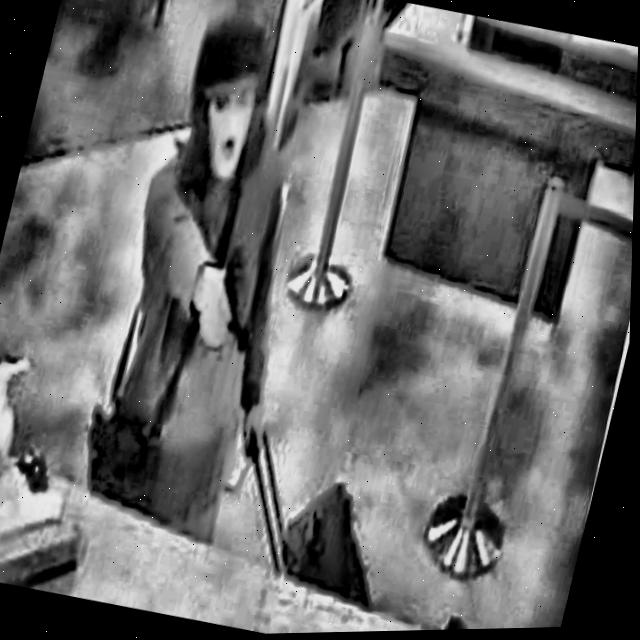pistol: (182, 234, 289, 378)
